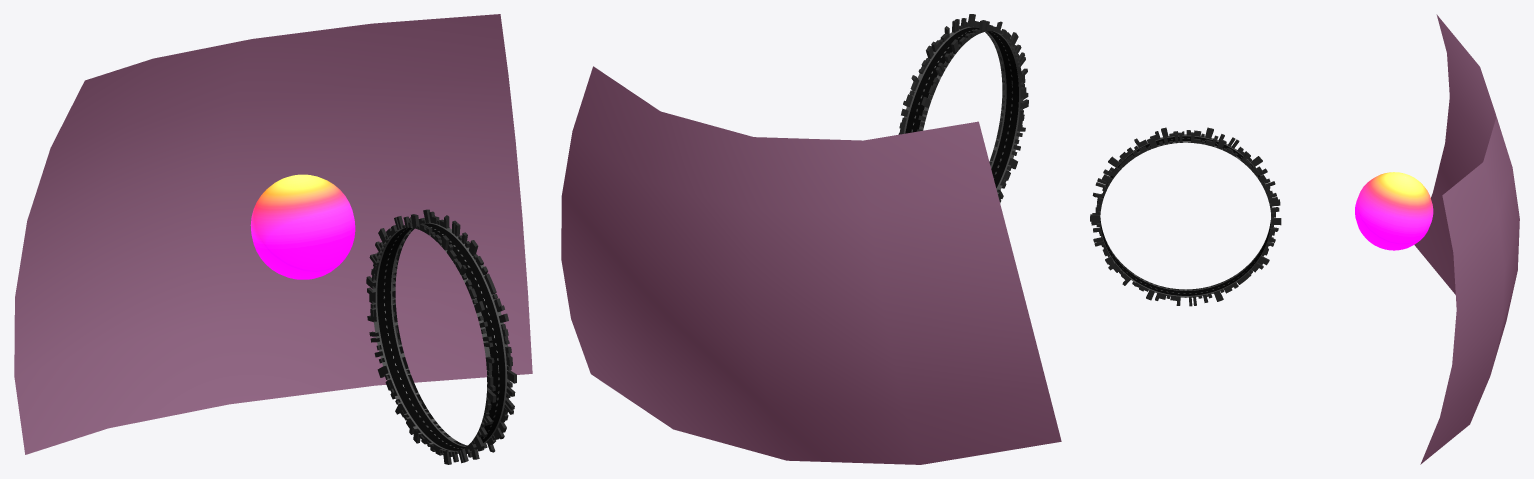
Rendered from looping_sunset_animation.glb.
The picture shows the model from 3 angles, left to right: view 1: azimuth 30°, elevation 25°; view 2: azimuth 150°, elevation 25°; view 3: azimuth 270°, elevation 25°; orthographic projection. The views are drawn at different scales.
Visible parts, largest first — view 1: pSphere2, pPlane11, pSphere1; view 2: pSphere2, pPlane11; view 3: pSphere2, pPlane11, pSphere1.
Part boxes in pixels (box(x1,y1,x2,y2)): pSphere2: box(14, 14, 532, 454); pPlane11: box(366, 209, 516, 464); pSphere1: box(250, 174, 355, 279); pSphere2: box(561, 66, 1061, 464); pPlane11: box(898, 14, 1028, 202); pSphere2: box(1414, 14, 1519, 464); pPlane11: box(1090, 127, 1281, 306); pSphere1: box(1355, 172, 1433, 250).
Bounding box in the file's own units: 206 × 150 × 197.
5 materials, 2 textured.
